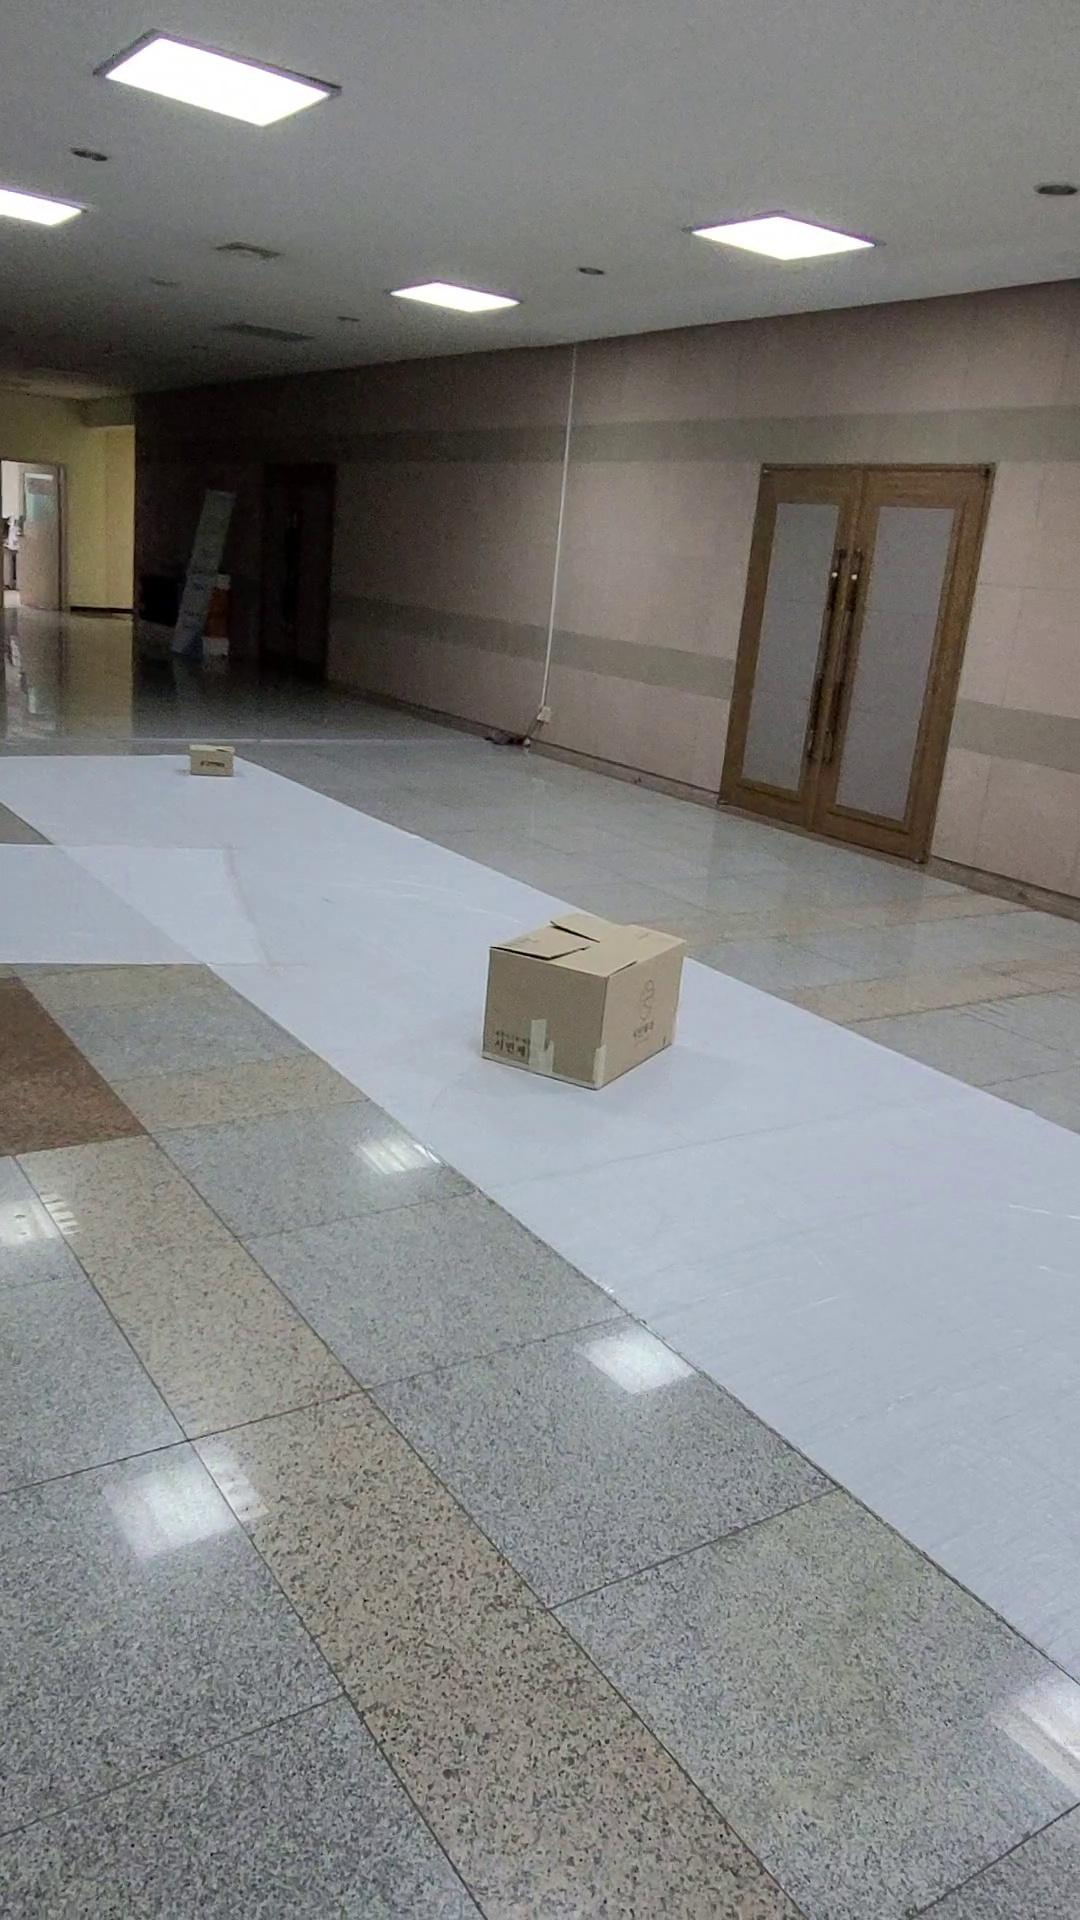Box: (431, 855, 735, 1155), (158, 698, 260, 804)
